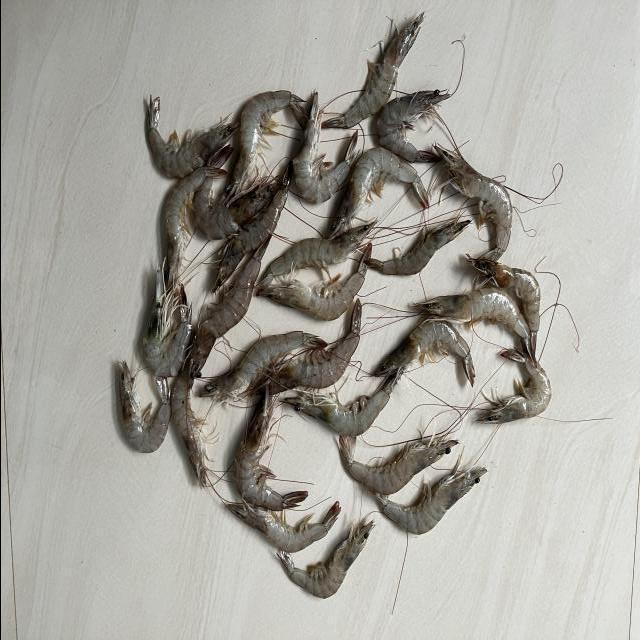shrimp: (321, 11, 423, 128), (247, 299, 361, 397), (189, 239, 267, 378), (212, 161, 291, 292), (413, 287, 535, 368), (232, 387, 307, 511), (328, 146, 429, 238), (197, 331, 326, 402), (434, 144, 512, 261), (255, 243, 371, 321), (225, 89, 307, 197), (375, 456, 487, 535), (282, 368, 402, 437), (257, 220, 376, 288), (276, 521, 374, 599), (146, 95, 238, 178), (466, 254, 540, 356), (291, 91, 357, 203), (164, 166, 225, 286), (338, 436, 458, 496), (370, 320, 475, 386), (224, 502, 340, 554), (365, 219, 470, 275), (191, 176, 280, 239), (141, 266, 191, 377), (476, 349, 551, 423), (376, 88, 450, 162), (118, 361, 170, 453), (169, 359, 206, 488)
